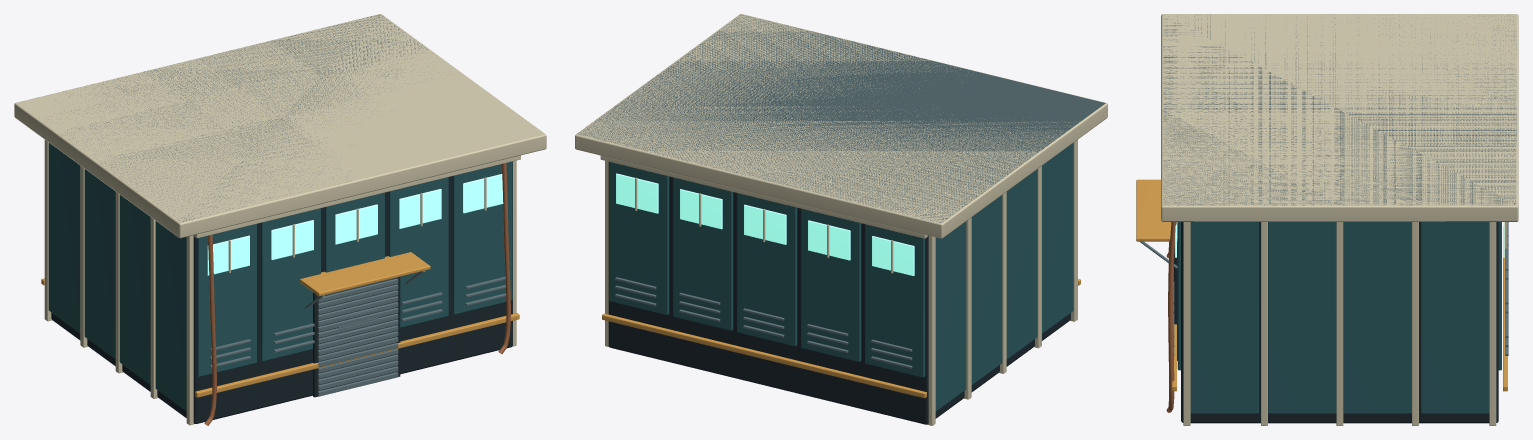
File: SM_RainWorkshop.glb
3 renders of one model, left to right at view 1: azimuth 30°, elevation 25°; view 2: azimuth 150°, elevation 25°; view 3: azimuth 270°, elevation 25°, orthographic. The views are drawn at different scales.
Parts seen in each view (by area): view 1: SM_RainWorkshop; view 2: SM_RainWorkshop; view 3: SM_RainWorkshop.
Part boxes in pixels (box(x1,y1,x2,y2)): SM_RainWorkshop: box(14, 14, 546, 425); SM_RainWorkshop: box(575, 14, 1107, 425); SM_RainWorkshop: box(1136, 14, 1518, 425).
Bounding box in the file's own units: 23 × 12.8 × 19.25.
